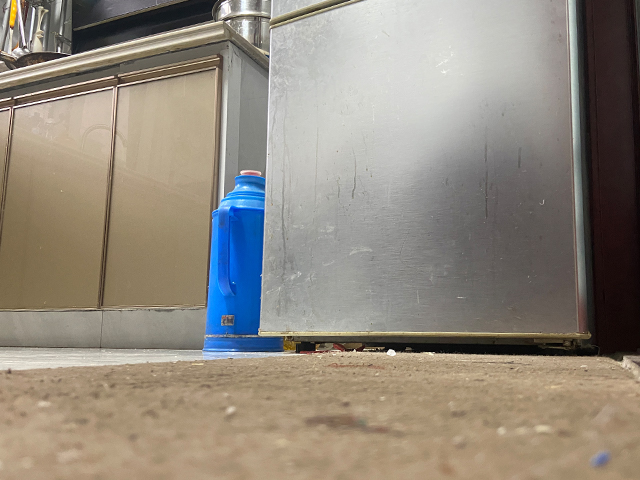cabinet: (1, 18, 227, 347)
carpet: (1, 350, 639, 480)
